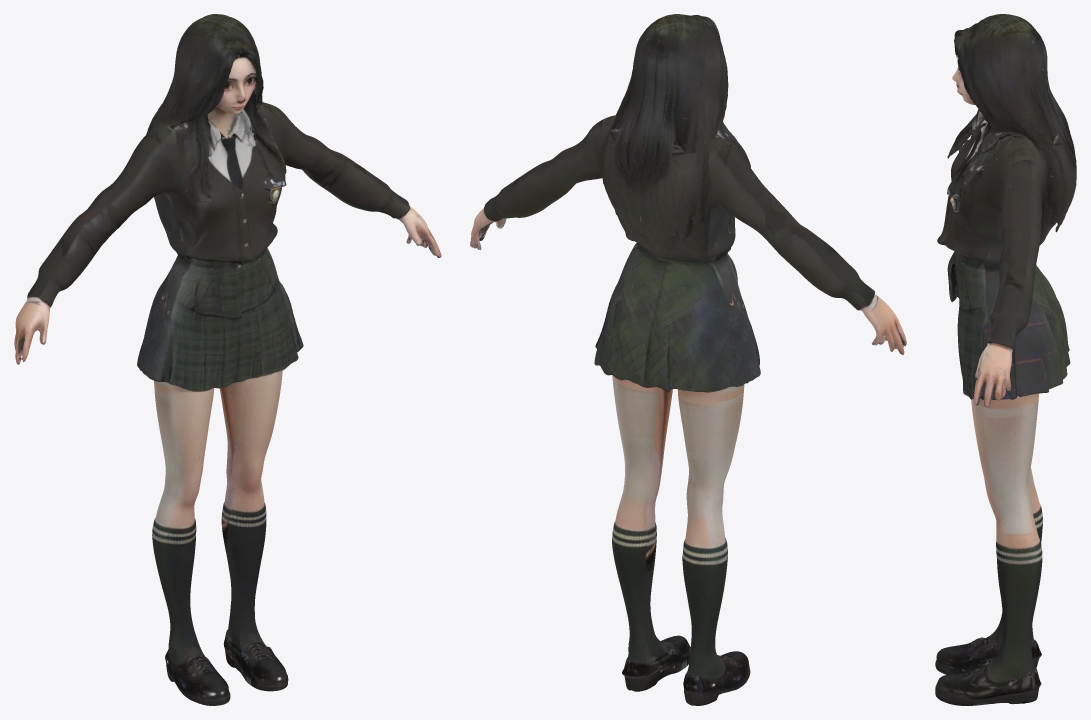
Rendered from uniform_girl.glb.
3 renders of one model, left to right at view 1: azimuth 30°, elevation 25°; view 2: azimuth 150°, elevation 25°; view 3: azimuth 270°, elevation 25°, orthographic.
Parts seen in each view (by area): view 1: Object_4, Object_5, Object_6; view 2: Object_5, Object_6, Object_4; view 3: Object_4, Object_5, Object_6.
Part boxes in pixels (x1,y1,x2,y2): Object_4: (22,14,441,705); Object_5: (14,16,437,678); Object_6: (16,14,411,681); Object_5: (470,14,906,705); Object_6: (473,18,882,705); Object_4: (480,14,905,705); Object_4: (935,14,1055,705); Object_5: (975,14,1076,705); Object_6: (1003,15,1076,703).
Bounding box in the file's own units: 1.34 × 1.99 × 0.3834.
Materials: 1 (1 with a texture image).
